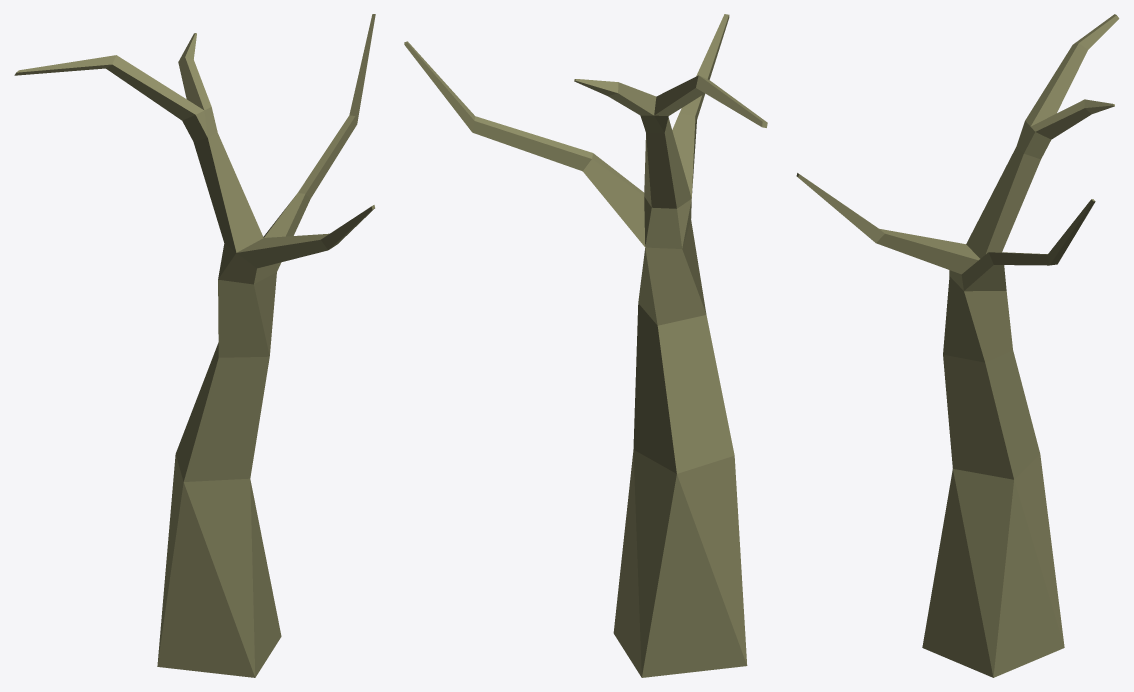
File: Dead_Tree_m_07_LOD.fbx
3 views of the same model, side by side, from view 1: azimuth 30°, elevation 25°; view 2: azimuth 150°, elevation 25°; view 3: azimuth 270°, elevation 25° (orthographic). The views are drawn at different scales.
Visible parts, largest first — view 1: Dead_Tree_m_07_LOD0; view 2: Dead_Tree_m_07_LOD0; view 3: Dead_Tree_m_07_LOD0.
Boxes of the visible parts, <box> form: Dead_Tree_m_07_LOD0: <box>14,14,375,677</box>; Dead_Tree_m_07_LOD0: <box>404,14,767,677</box>; Dead_Tree_m_07_LOD0: <box>796,14,1119,677</box>.
Size of what is drawn, in the model's own units: 276 by 437 by 222.
